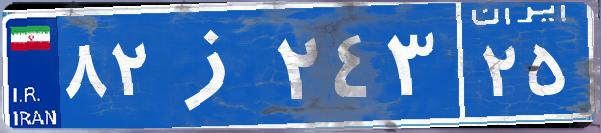2: (273, 28, 330, 110), (475, 38, 525, 113), (110, 28, 158, 105)
3: (385, 28, 445, 110)
4: (330, 28, 385, 110)
5: (525, 38, 570, 115)
8: (57, 26, 110, 107)
ز: (158, 15, 273, 115)
